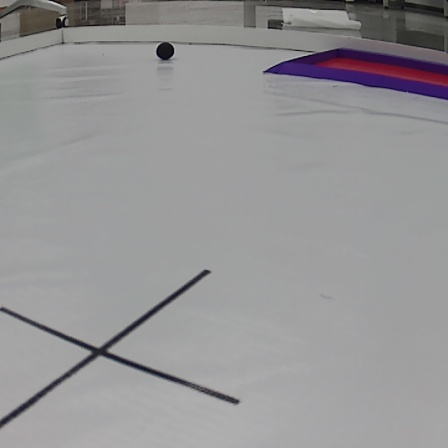black: (155, 41, 173, 60)
red_aim: (262, 42, 448, 104)
